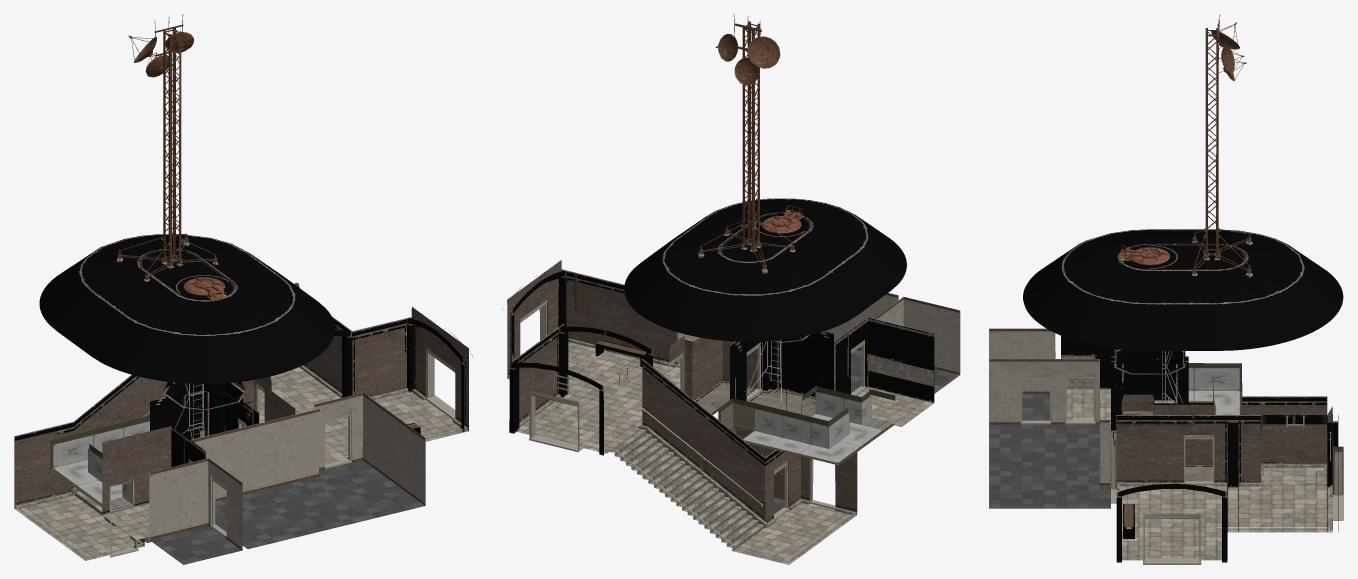
File: entrance_bunker_a-mid.glb
The picture shows the model from 3 angles, left to right: view 1: azimuth 30°, elevation 25°; view 2: azimuth 150°, elevation 25°; view 3: azimuth 270°, elevation 25°; orthographic projection. The views are drawn at different scales.
Visible parts, largest first — view 1: stairwell_top_country_b_LOD0, antena_helipad_base_LOD0, bunker_hatch; view 2: stairwell_top_country_b_LOD0, antena_helipad_base_LOD0, bunker_hatch; view 3: stairwell_top_country_b_LOD0, antena_helipad_base_LOD0, bunker_hatch.
Part boxes in pixels (x1,y1,x2,y2): stairwell_top_country_b_LOD0: [14, 234, 473, 564]; antena_helipad_base_LOD0: [116, 17, 218, 281]; bunker_hatch: [183, 276, 227, 300]; stairwell_top_country_b_LOD0: [502, 198, 960, 564]; antena_helipad_base_LOD0: [698, 17, 795, 273]; bunker_hatch: [762, 205, 804, 233]; stairwell_top_country_b_LOD0: [989, 229, 1343, 564]; antena_helipad_base_LOD0: [1191, 17, 1252, 277]; bunker_hatch: [1118, 245, 1169, 265].
Size of the model in its own units: 18.75 by 24.6 by 16.
16 materials, 15 textured.
